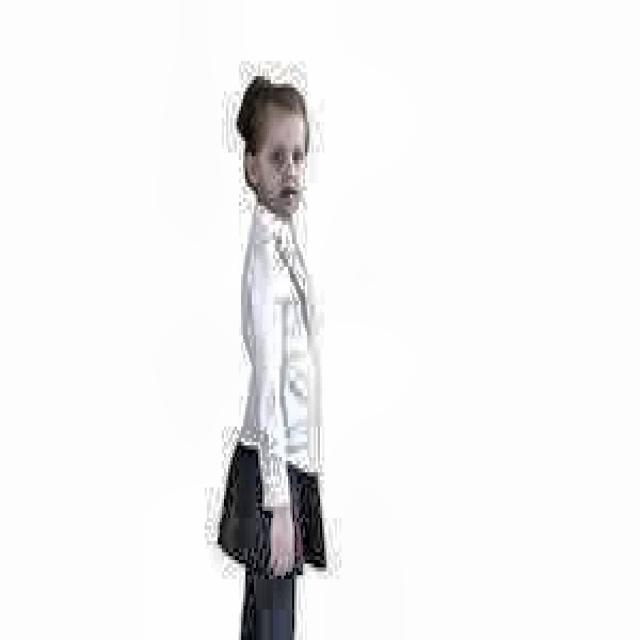Human: (217, 56, 334, 640)
